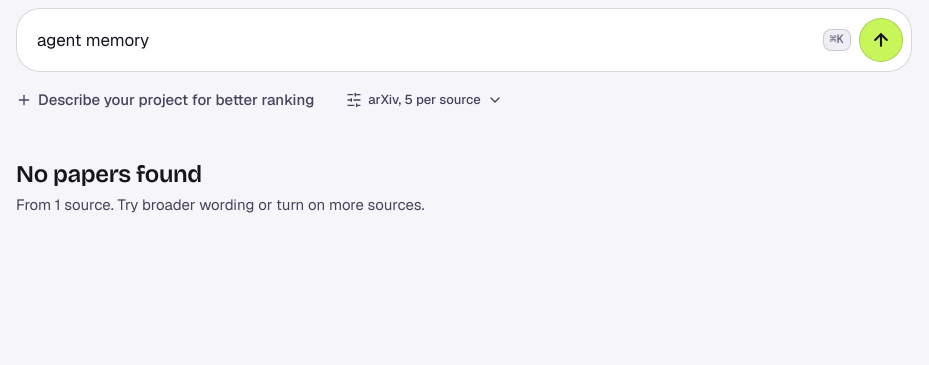
Test: SearchPapers › refills the form from a saved search, keeping only sources that still exist
Expected: the field showing "agent memory" is shown, [37,9,815,71]
// A saved search docks the form above its results, folding the chips into a summary.
Click the button "arXiv, 5 per source".
click(424, 100)  # box [334,80,515,120]
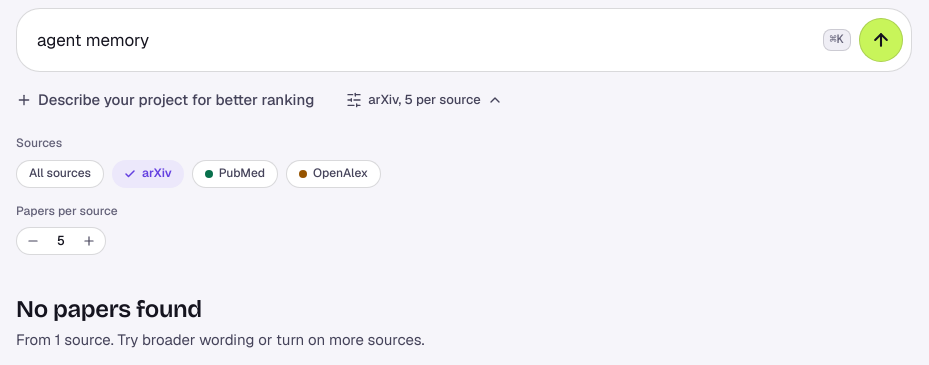
Expected: the button "arXiv" is shown, [112,160,184,188]
Expected: the button "PubMed" is shown, [192,160,278,188]
Expected: the button "All sources" is shown, [16,160,104,188]
